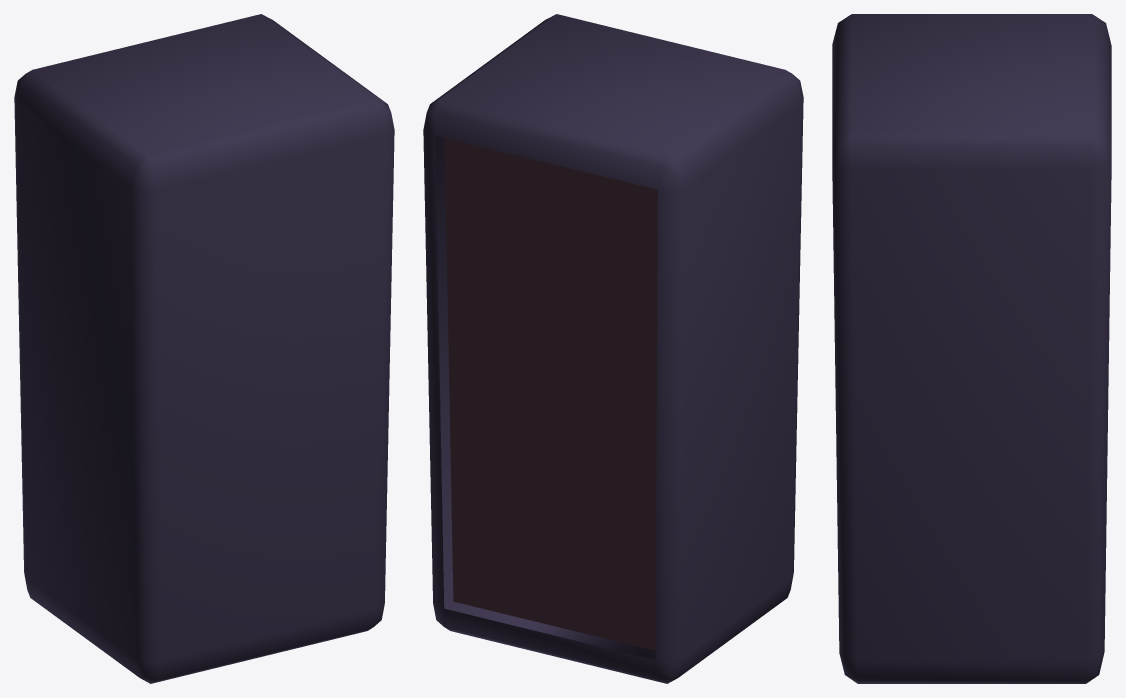
File: xSpeaker.glb
3 views of the same model, side by side, from view 1: azimuth 30°, elevation 25°; view 2: azimuth 150°, elevation 25°; view 3: azimuth 270°, elevation 25° (orthographic). The views are drawn at different scales.
Visible parts, largest first — view 1: speakers; view 2: speakers; view 3: speakers.
Boxes of the visible parts, bbox=[...] form: speakers: bbox=[14, 14, 394, 683]; speakers: bbox=[423, 14, 803, 683]; speakers: bbox=[832, 14, 1111, 683].
Size of the model in its own units: 3.51 by 6.84 by 3.11.
Materials: 1 (1 with a texture image).
